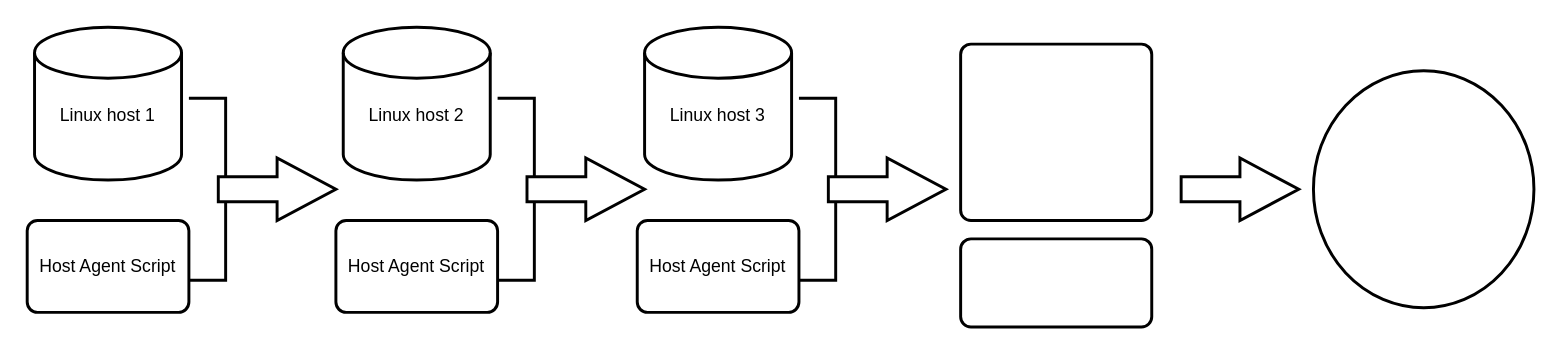
The diagram is 1560 pixels wide and 353 high, and some of its shapes have lost their labels. Each missing label, with the box of its shape:
Central monitoring system: (1311, 69, 1535, 308)
Docker volume (pgdata): (958, 237, 1152, 328)
postgresql database (Docker container): (958, 42, 1152, 221)
